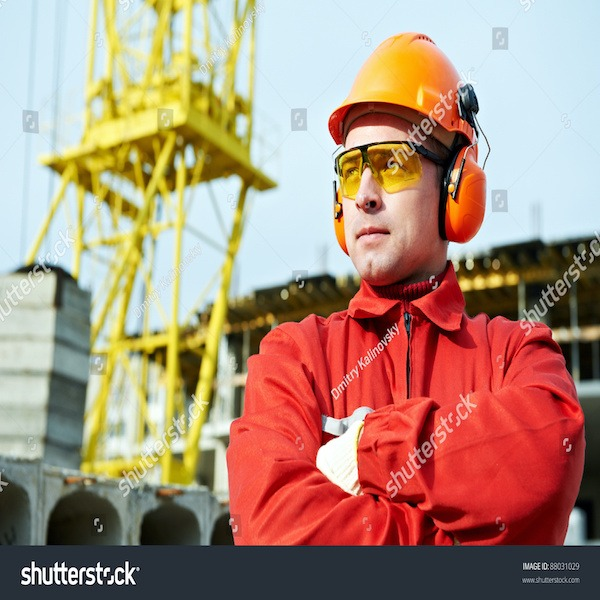helmet: (326, 27, 480, 128)
